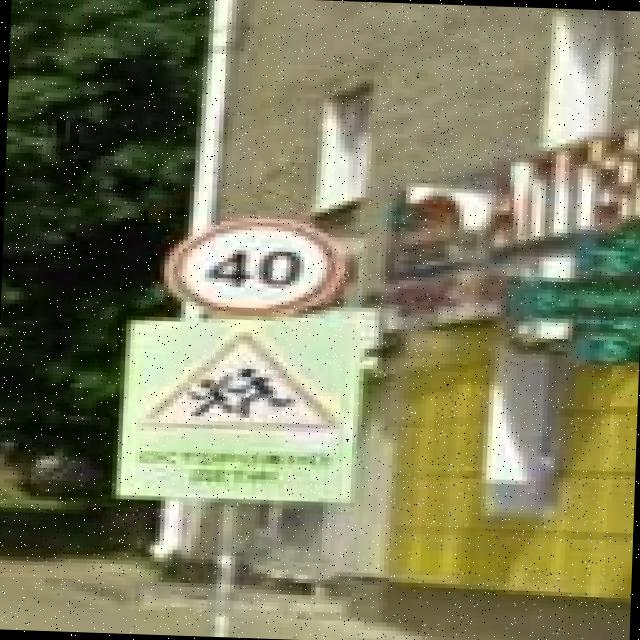Dzieci: (126, 328, 342, 441)
Ograniczenie predkosci do 40: (162, 215, 346, 322)
